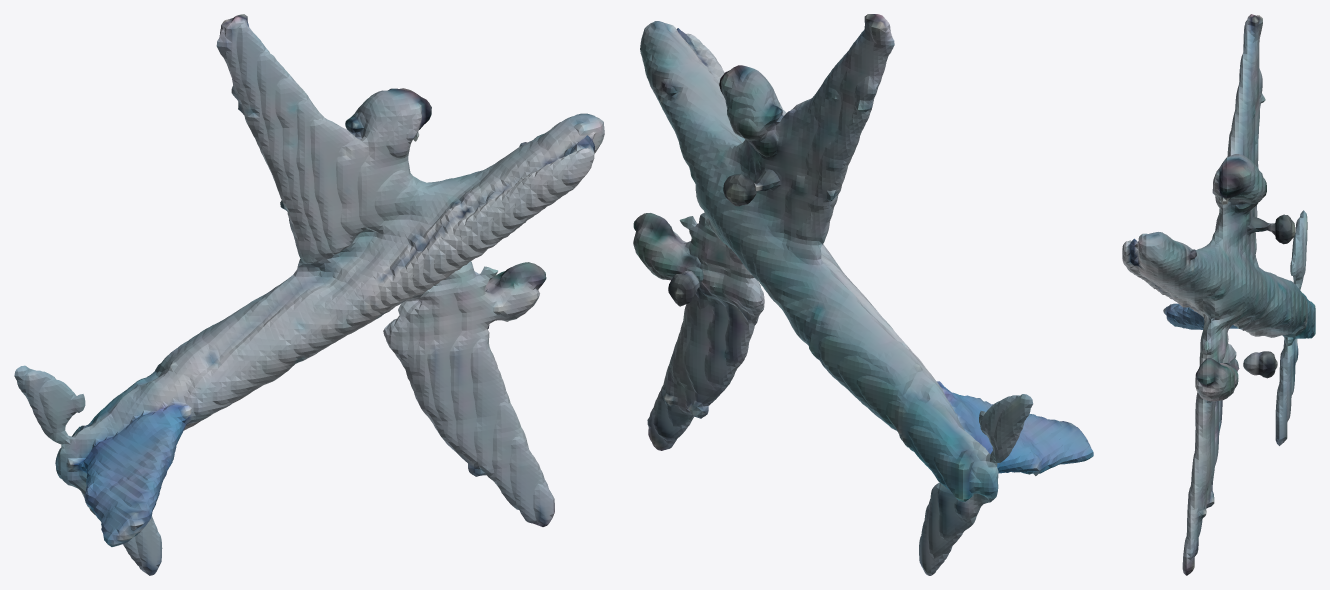
The model's file is airplane.glb.
The picture shows the model from 3 angles, left to right: view 1: azimuth 30°, elevation 25°; view 2: azimuth 150°, elevation 25°; view 3: azimuth 270°, elevation 25°; orthographic projection. The views are drawn at different scales.
Parts seen in each view (by area): view 1: world; view 2: world; view 3: world.
Boxes of the visible parts, x1=… form: world: x1=14, y1=14, x2=604, y2=575; world: x1=633, y1=14, x2=1093, y2=575; world: x1=1122, y1=14, x2=1315, y2=575.
Bounding box in the file's own units: 0.802 × 0.856 × 0.3272.
